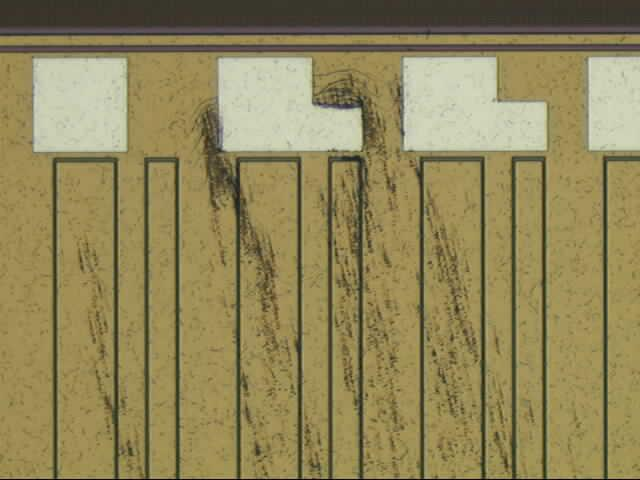SCRATCH: (73, 77, 538, 480)
